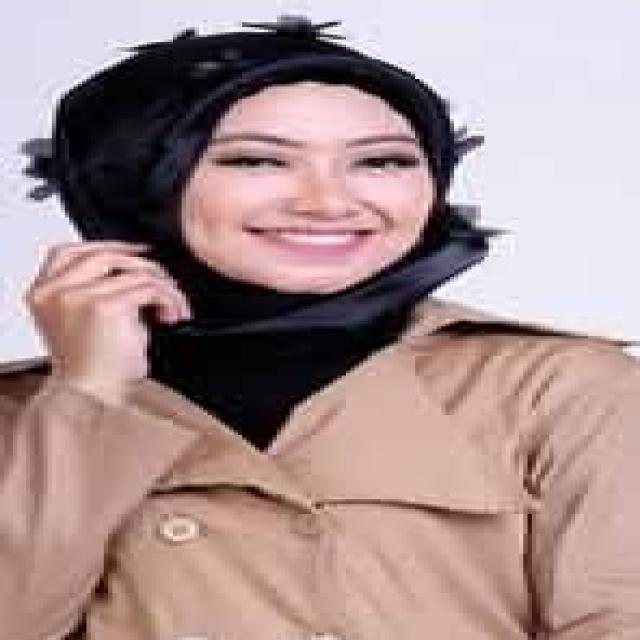head: (52, 30, 482, 294)
